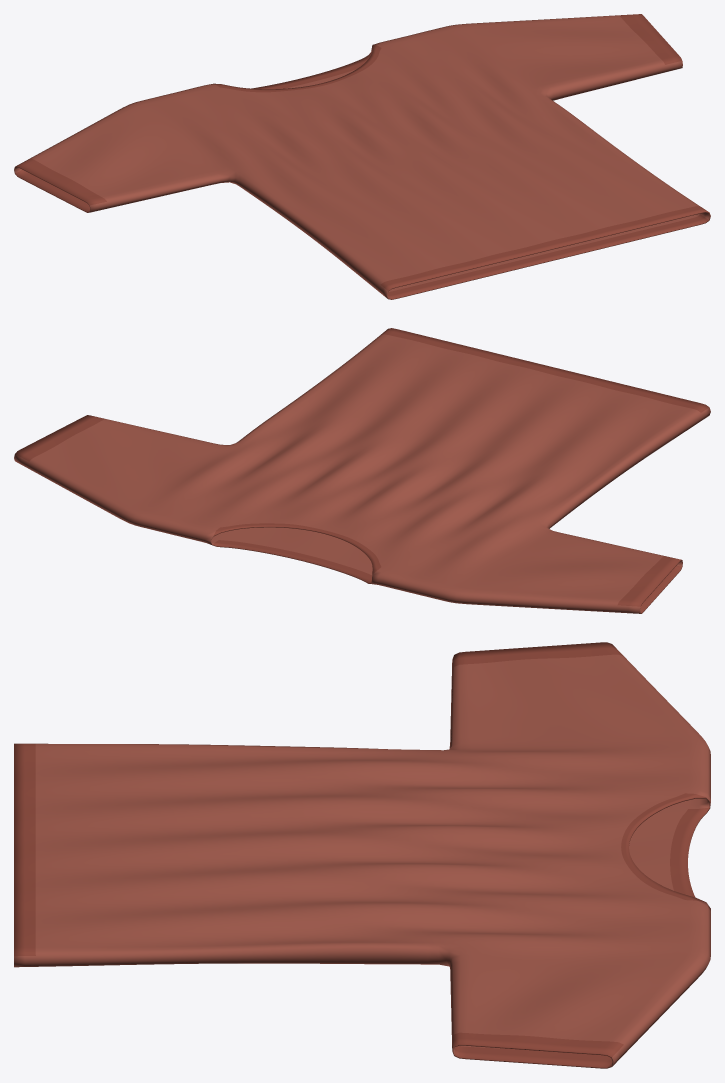
3 renders of one model, top to bottom at view 1: azimuth 30°, elevation 25°; view 2: azimuth 150°, elevation 25°; view 3: azimuth 270°, elevation 25°, orthographic. The views are drawn at different scales.
Parts seen in each view (by area): view 1: Complete open short-sleeved fabric garment; view 2: Complete open short-sleeved fabric garment; view 3: Complete open short-sleeved fabric garment.
Boxes of the visible parts, x1=… form: Complete open short-sleeved fabric garment: x1=14, y1=14, x2=710, y2=299; Complete open short-sleeved fabric garment: x1=14, y1=328, x2=710, y2=613; Complete open short-sleeved fabric garment: x1=14, y1=642, x2=710, y2=1068.
Size of the model in its own units: 92.63 by 2.66 by 65.99.
